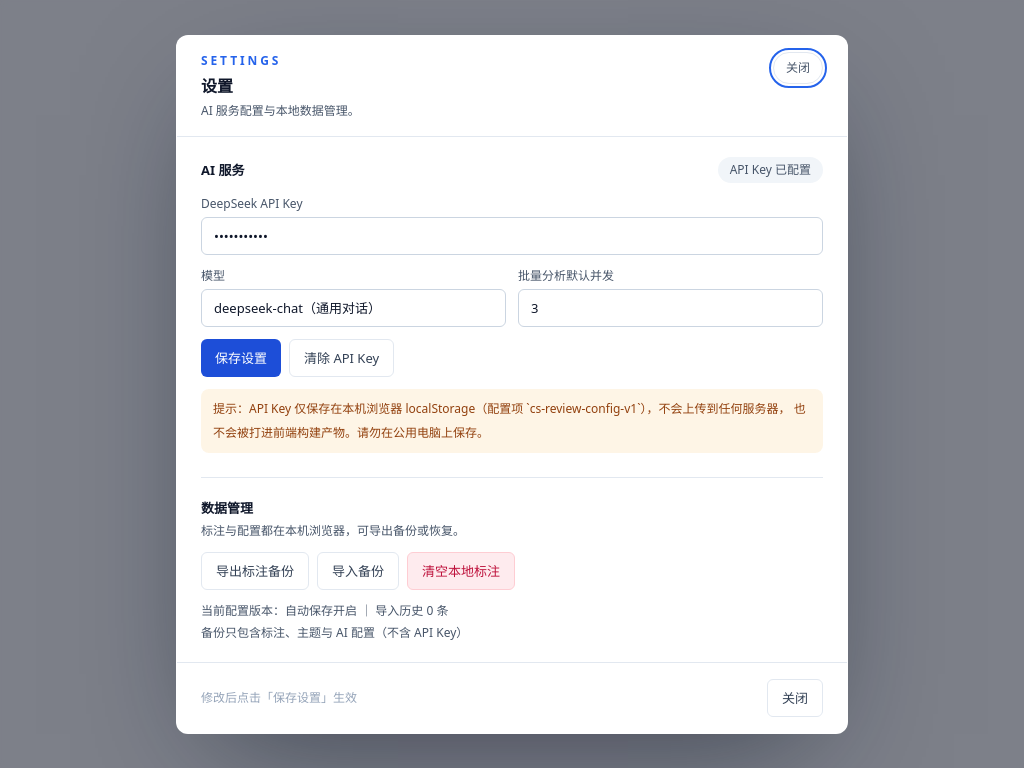
Scenario: SettingsPanel 数据管理 › 清空本地标注 → 二次确认后清空并回调
The image size is (1024, 768).
Click the button "清空本地标注" at (461, 570), box [407, 552, 515, 590]
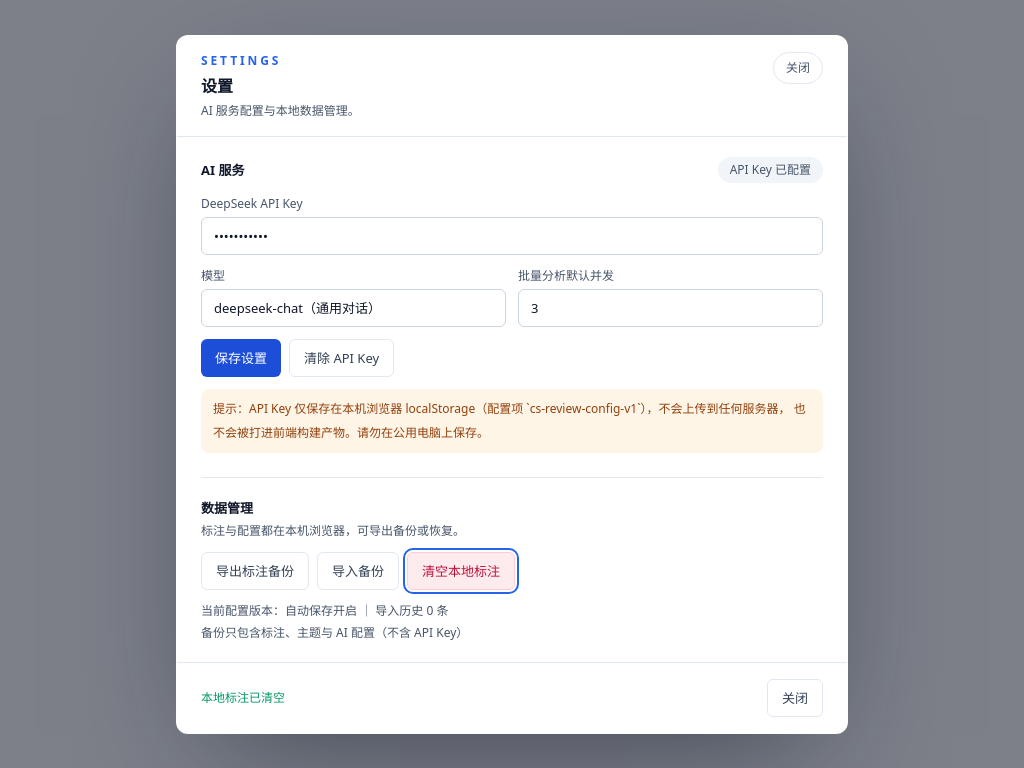
Check: the text "本地标注已清空" is shown, box [201, 688, 285, 706]
